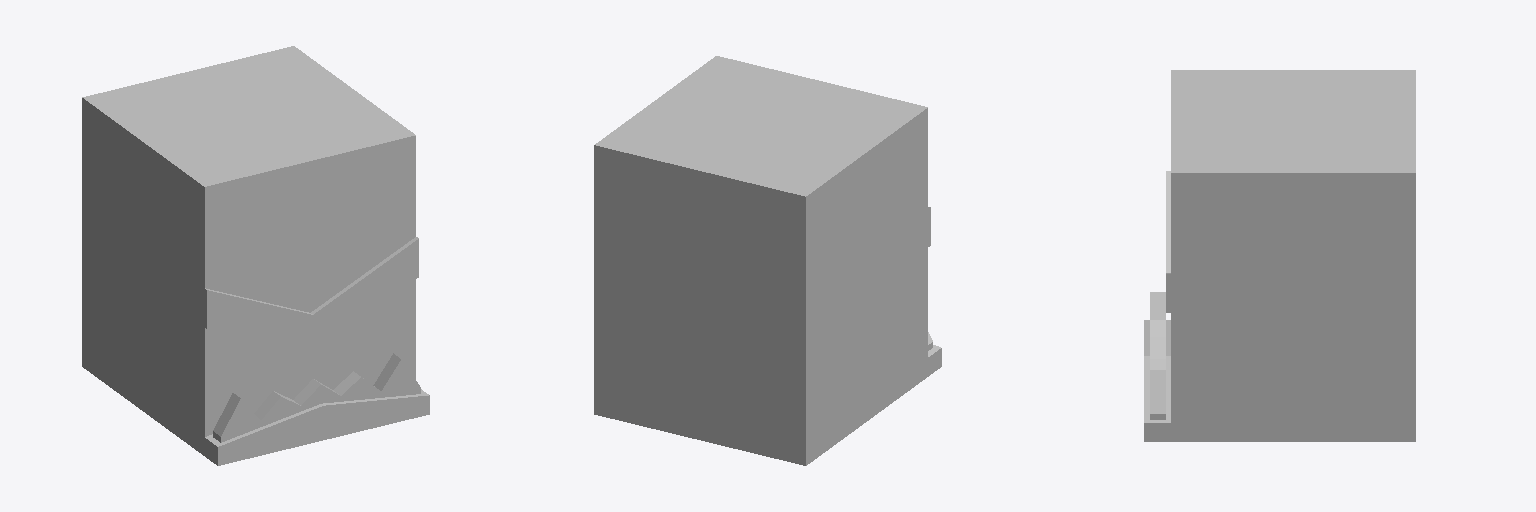
Rendered from enemy_mob.obj.
3 renders of one model, left to right at view 1: azimuth 30°, elevation 25°; view 2: azimuth 150°, elevation 25°; view 3: azimuth 270°, elevation 25°, orthographic.
Visible parts, largest first — view 1: mob_Cube.001_Cube.000_Cube.001_Cube.000; view 2: mob_Cube.001_Cube.000_Cube.001_Cube.000; view 3: mob_Cube.001_Cube.000_Cube.001_Cube.000.
Boxes of the visible parts, x1,y1,x2,y2 form: mob_Cube.001_Cube.000_Cube.001_Cube.000: [82, 46, 429, 465]; mob_Cube.001_Cube.000_Cube.001_Cube.000: [594, 56, 941, 465]; mob_Cube.001_Cube.000_Cube.001_Cube.000: [1144, 70, 1415, 441].
Bounding box in the file's own units: 2 × 2.43 × 2.22.